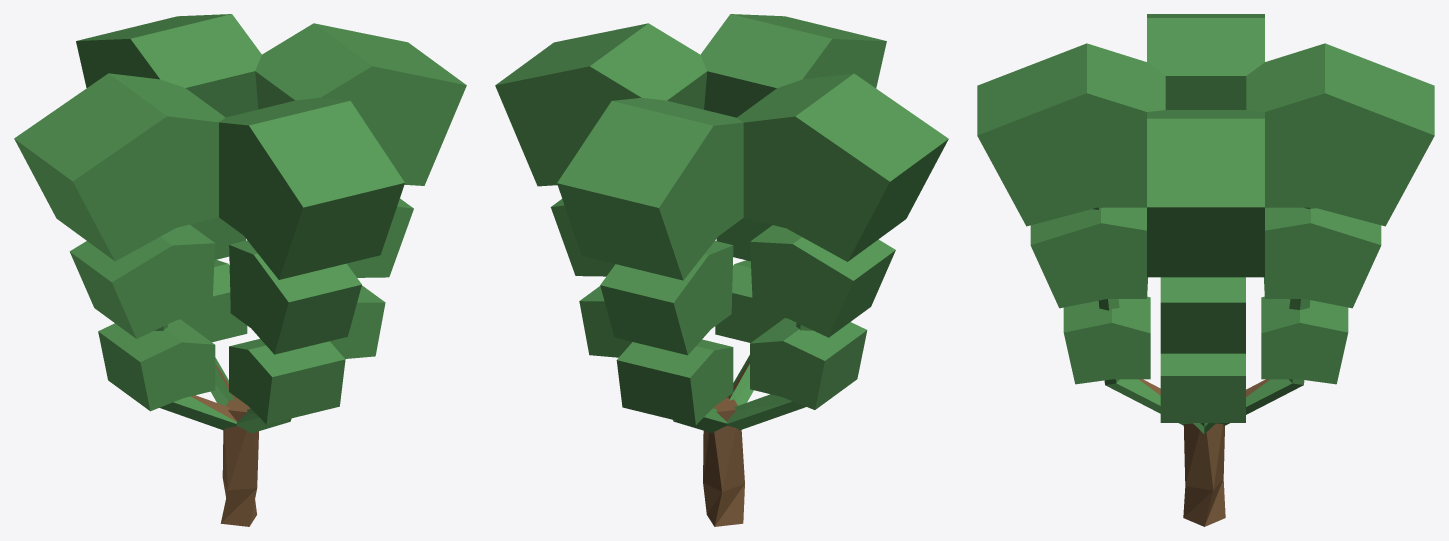
File: tree3d-005.glb
3 renders of one model, left to right at view 1: azimuth 30°, elevation 25°; view 2: azimuth 150°, elevation 25°; view 3: azimuth 270°, elevation 25°, orthographic.
Visible parts, largest first — view 1: tree3d-005; view 2: tree3d-005; view 3: tree3d-005.
Boxes of the visible parts, x1=… form: tree3d-005: x1=14, y1=14, x2=466, y2=526; tree3d-005: x1=495, y1=14, x2=948, y2=526; tree3d-005: x1=977, y1=14, x2=1434, y2=526.
Bounding box in the file's own units: 0.9199 × 1 × 0.9199.
